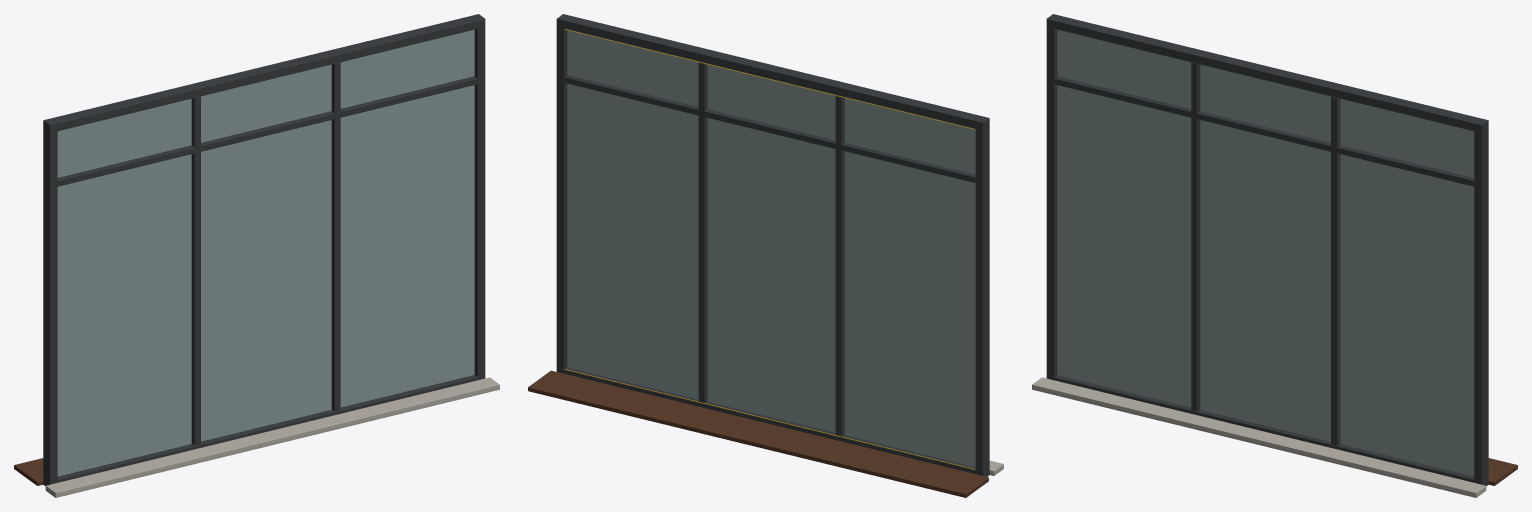
The model's file is prop_window_shop_w300_h240.glb.
The picture shows the model from 3 angles, left to right: view 1: azimuth 30°, elevation 25°; view 2: azimuth 150°, elevation 25°; view 3: azimuth 330°, elevation 25°; orthographic projection. The views are drawn at different scales.
Parts seen in each view (by area): view 1: Glass, Frame; view 2: Glass, Frame; view 3: Glass, Frame.
Boxes of the visible parts, <box> form: Glass: <box>57,29,474,476</box>; Frame: <box>14,14,499,497</box>; Glass: <box>567,29,975,466</box>; Frame: <box>528,14,1003,497</box>; Glass: <box>1057,29,1474,476</box>; Frame: <box>1032,14,1517,497</box>.
Size of the model in its own units: 3.08 by 2.4 by 0.48.
